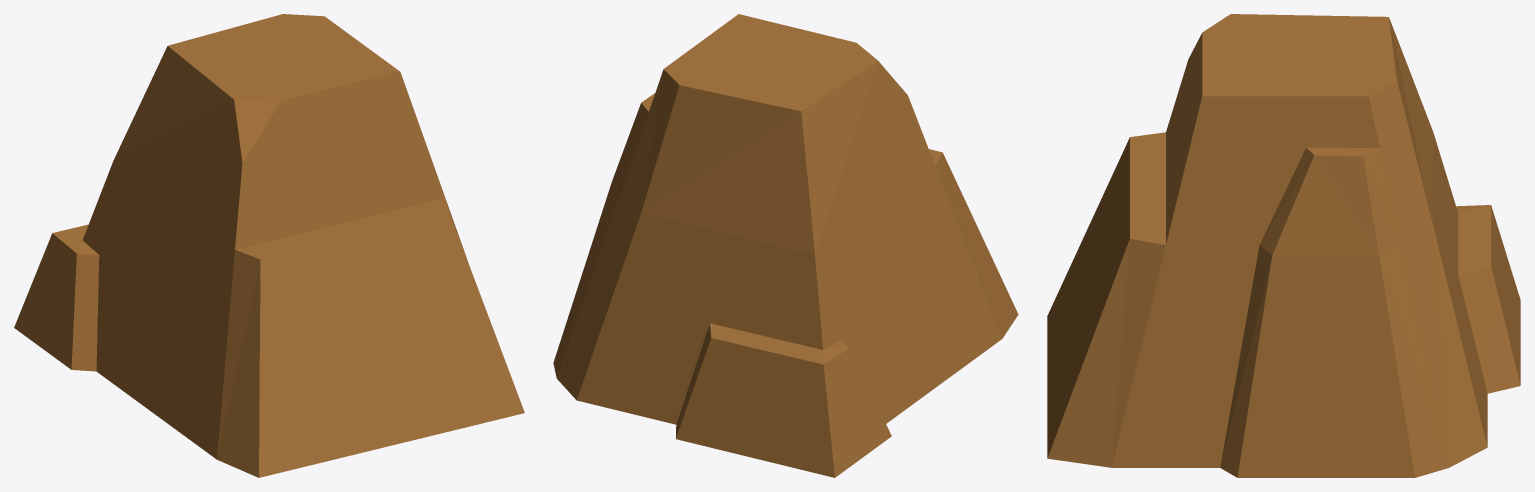
Rendered from SandStoneB.fbx.
The picture shows the model from 3 angles, left to right: view 1: azimuth 30°, elevation 25°; view 2: azimuth 150°, elevation 25°; view 3: azimuth 270°, elevation 25°; orthographic projection. The views are drawn at different scales.
Parts seen in each view (by area): view 1: SandStoneB; view 2: SandStoneB; view 3: SandStoneB.
Part boxes in pixels (<box>): SandStoneB: <box>14,14,524,477</box>; SandStoneB: <box>553,14,1018,477</box>; SandStoneB: <box>1047,14,1520,477</box>.
Bounding box in the file's own units: 42.15 × 36.78 × 47.32.
